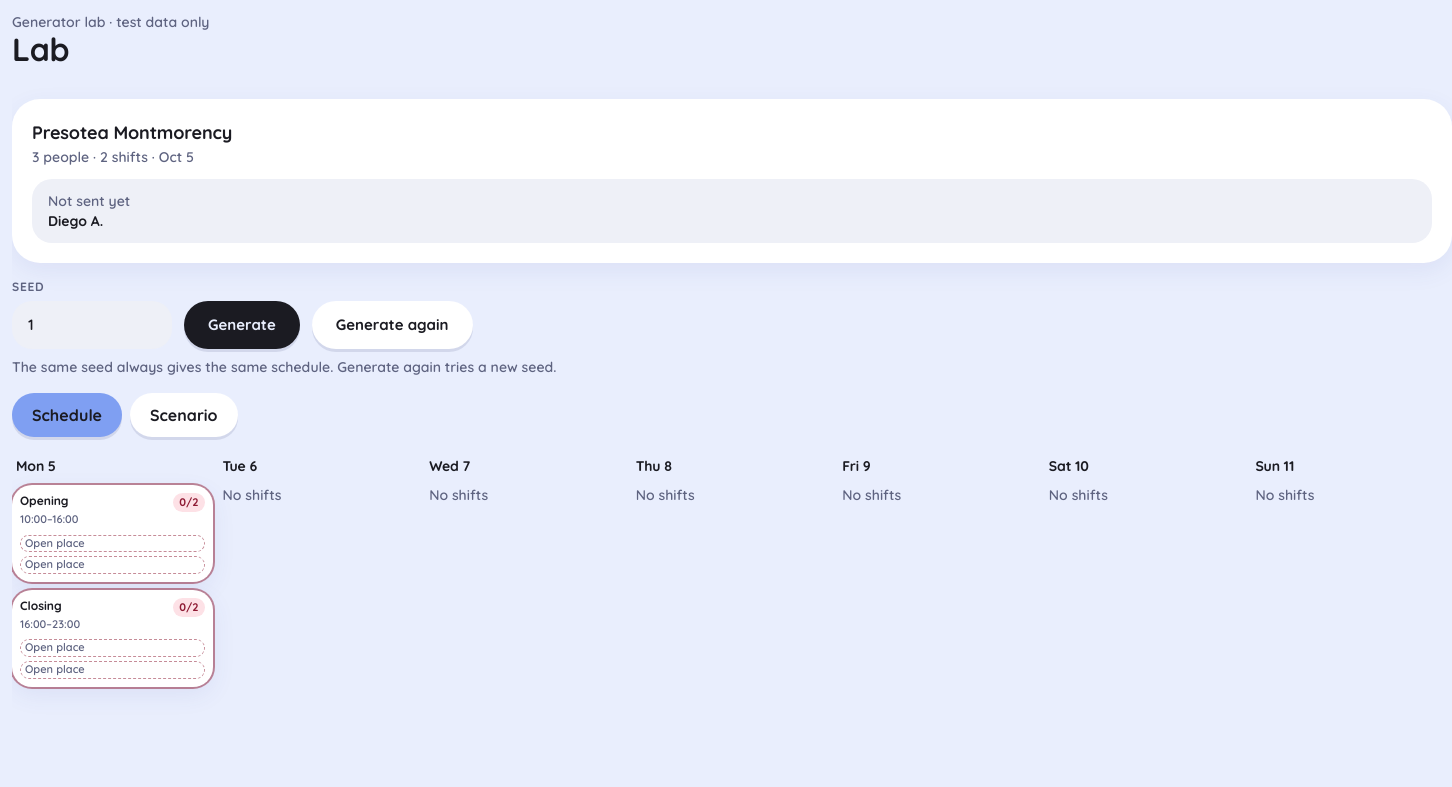
Test: LabPage › shows how long the generation took next to the score (M1-08)
Click the button "Generate" at (242, 325), box left=184, top=301, right=300, bottom=349
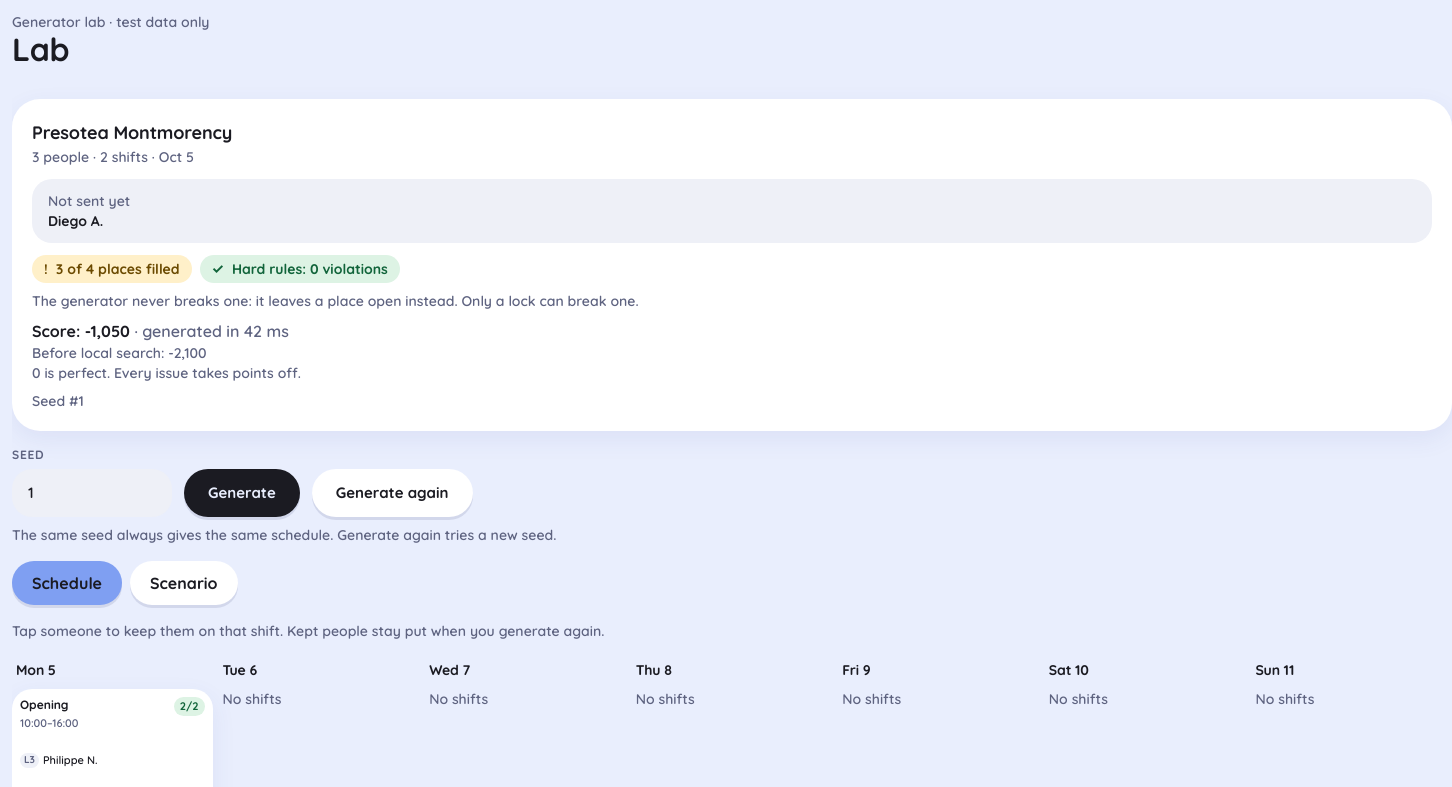
Check: the text "· generated in 42 ms" is shown, box left=130, top=321, right=289, bottom=341
